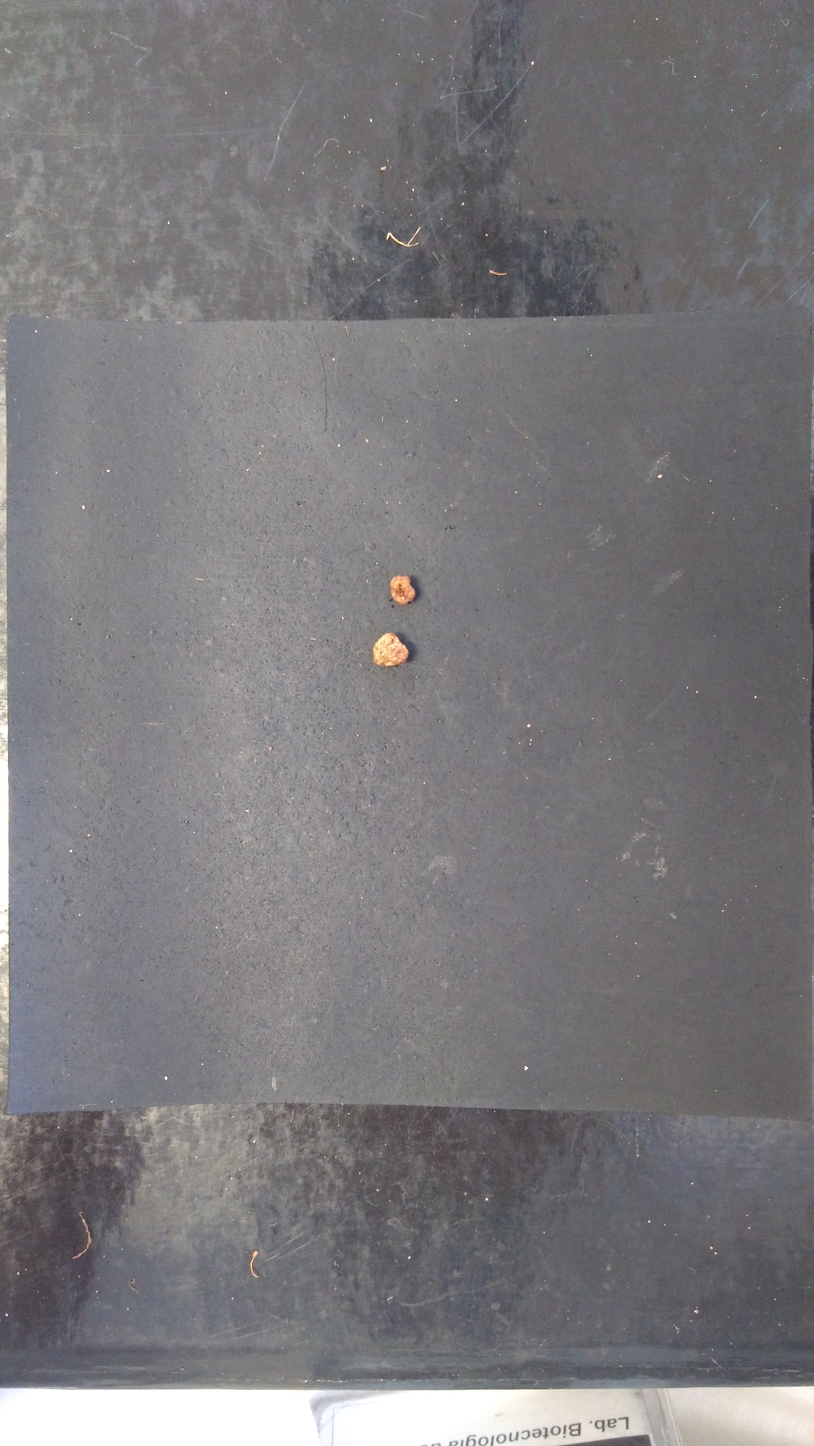nodule: (372, 632, 409, 667), (389, 575, 416, 606)
